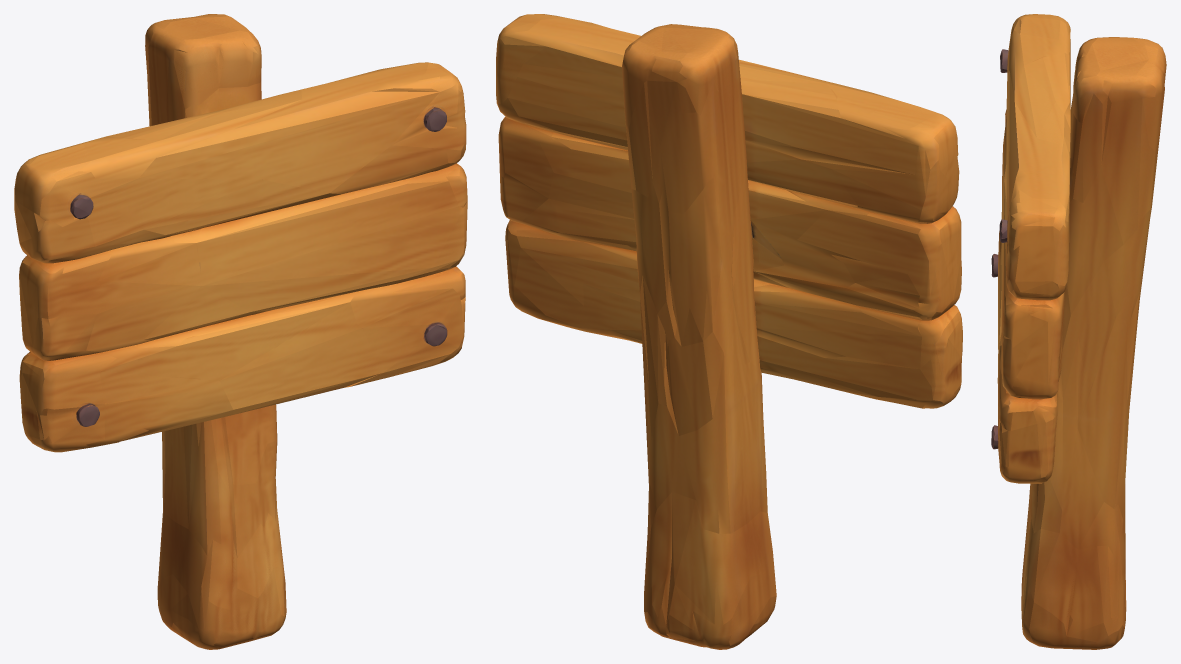
Rendered from gappu_sign.glb.
The picture shows the model from 3 angles, left to right: view 1: azimuth 30°, elevation 25°; view 2: azimuth 150°, elevation 25°; view 3: azimuth 270°, elevation 25°; orthographic projection. The views are drawn at different scales.
Size of the model in its own units: 1.45 by 1.9 by 0.5174.
Materials: 1 (1 with a texture image).
